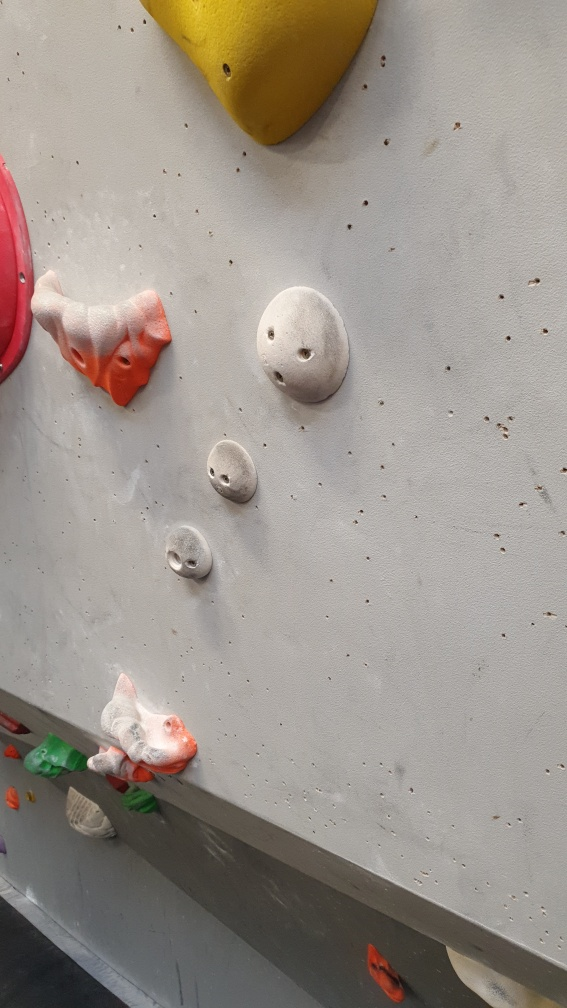Jug: (27, 266, 176, 410), (103, 671, 198, 777)
Sloper: (258, 285, 354, 407), (204, 439, 260, 509), (164, 524, 214, 586)
